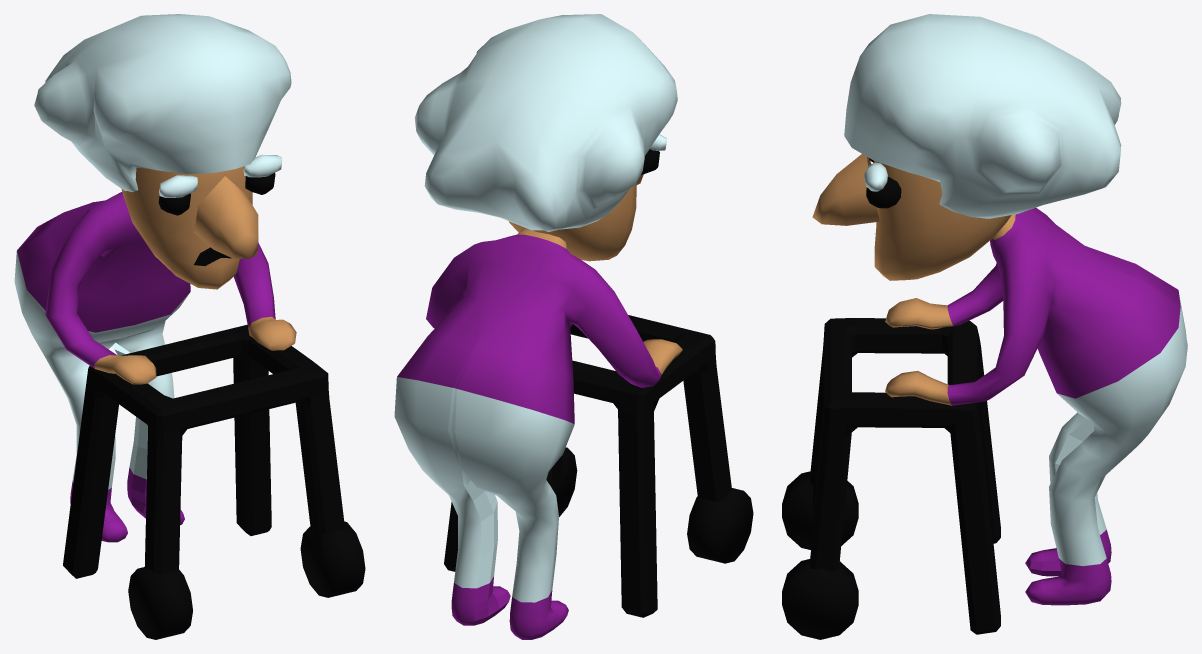
The model's file is Character Granny.fbx.
The picture shows the model from 3 angles, left to right: view 1: azimuth 30°, elevation 25°; view 2: azimuth 150°, elevation 25°; view 3: azimuth 270°, elevation 25°; orthographic projection. The views are drawn at different scales.
Parts seen in each view (by area): view 1: Walker, Hair, Body.001, Cube.013, Sphere.005, Sphere.004, Sphere.003; view 2: Body.001, Hair, Walker, Cube.013; view 3: Body.001, Hair, Walker, Cube.013, Sphere.005, Sphere.003.
Boxes of the visible parts, box(x1,y1,x2,y2) form: Walker: box(63, 324, 365, 639); Hair: box(34, 14, 291, 192); Body.001: box(14, 192, 296, 542); Cube.013: box(121, 166, 252, 289); Sphere.005: box(194, 176, 258, 258); Sphere.004: box(159, 154, 282, 197); Sphere.003: box(158, 173, 275, 215); Body.001: box(394, 228, 682, 639); Hair: box(414, 14, 677, 231); Walker: box(444, 315, 753, 617); Cube.013: box(509, 183, 636, 261); Body.001: box(885, 207, 1187, 605); Hair: box(844, 14, 1121, 218); Walker: box(782, 318, 1000, 639); Cube.013: box(874, 161, 1011, 280); Sphere.005: box(812, 154, 880, 225); Sphere.003: box(866, 158, 901, 208).
Size of the model in its own units: 63.53 by 150 by 97.47.
